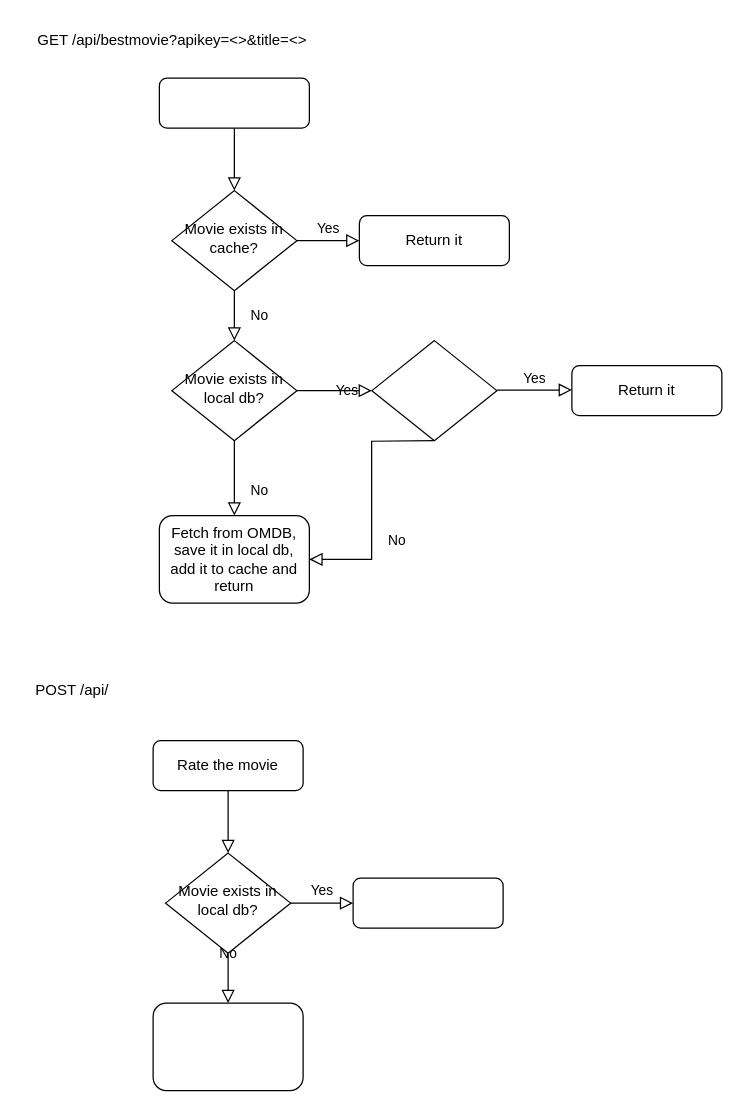
Some shapes in this 744 by 1113 pixel diagram are drawn without their labels. Here are the shapes that lost their labels. From the top down, the box of each, then its label:
(158, 77, 309, 128): Search for movie
(371, 339, 497, 441): Does it have rating info
(352, 877, 503, 928): Update it, invalidate cache and return
(152, 1002, 303, 1091): Fetch from OMDB, update the rating, save it in local db, add return
